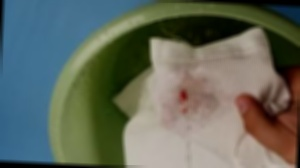blood: (179, 89, 191, 114)
